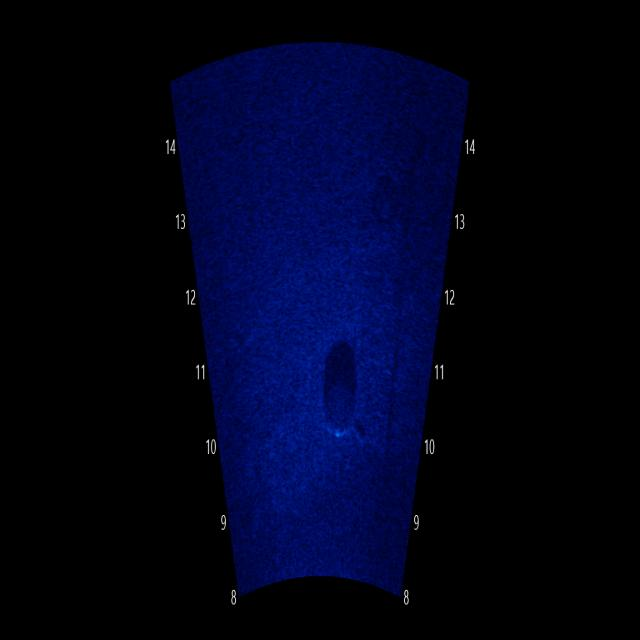circle: (312, 356, 366, 454)
